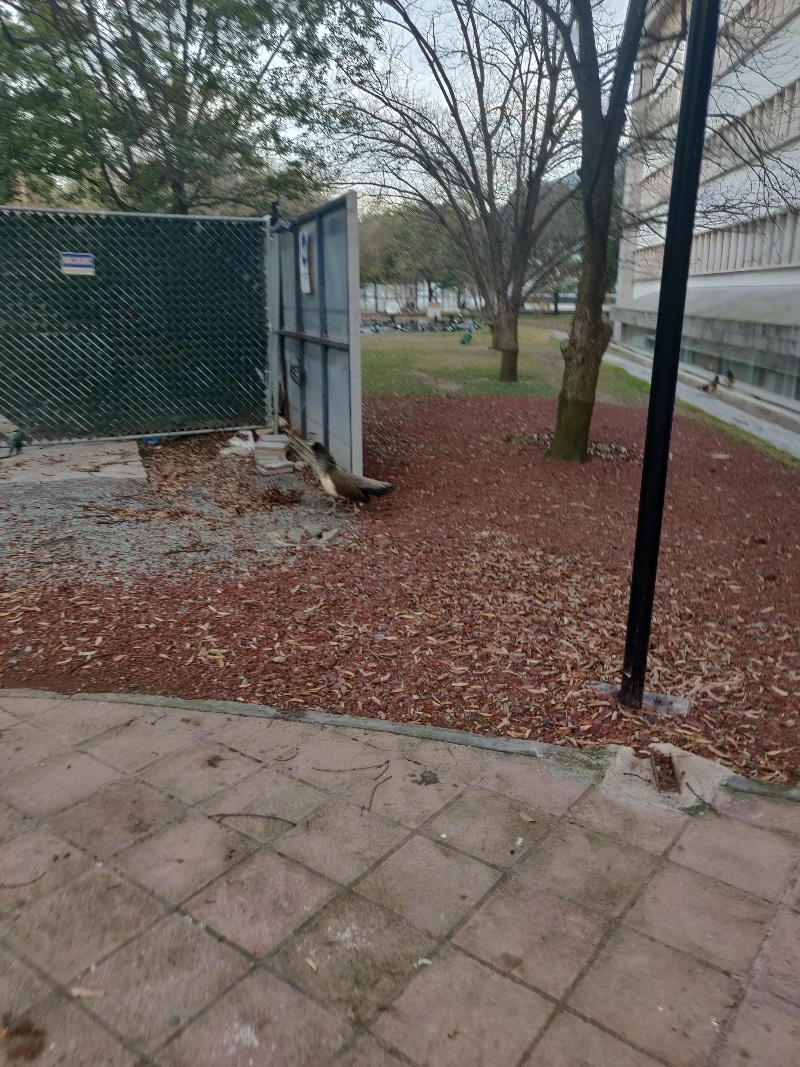pavoreal: (299, 434, 383, 509)
